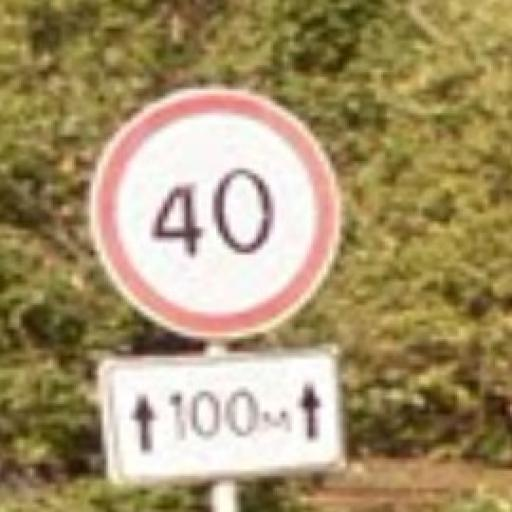traffic_sign: (89, 88, 343, 342)
